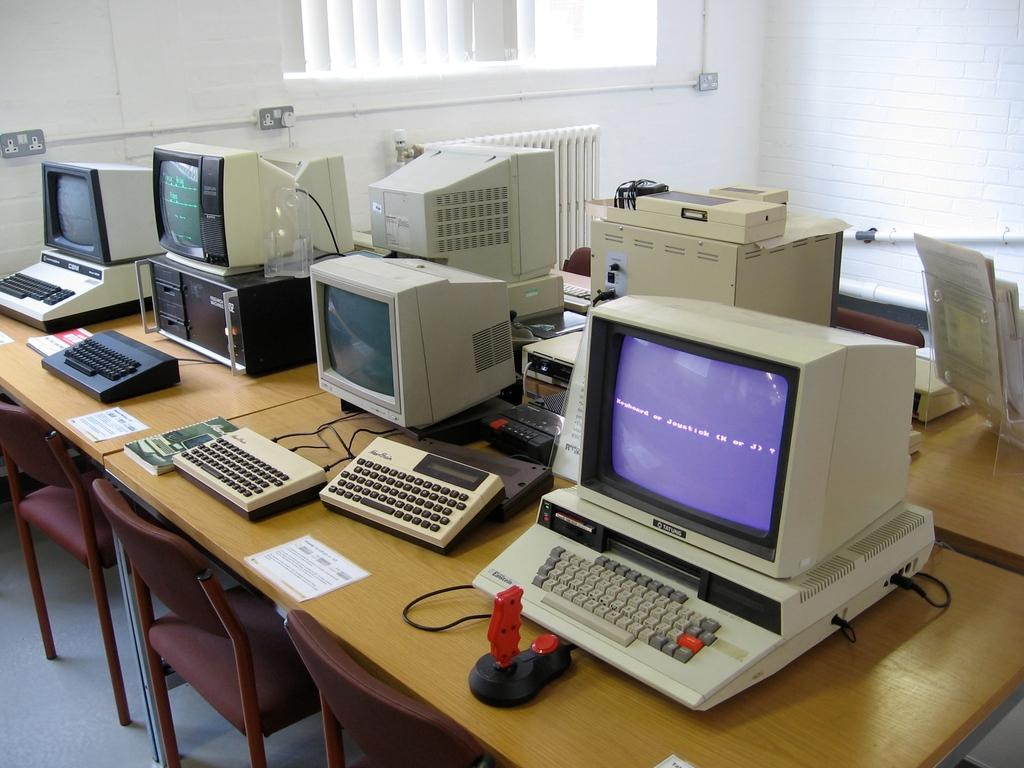Chair: (89, 476, 343, 767), (0, 401, 132, 726), (283, 608, 495, 767)
Computer-monitor: (569, 291, 918, 581)
